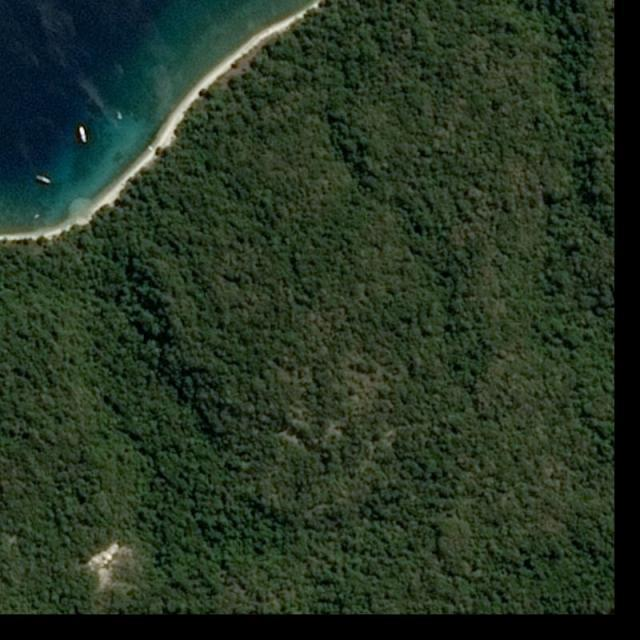ship: (78, 126, 89, 144), (36, 176, 51, 185)
